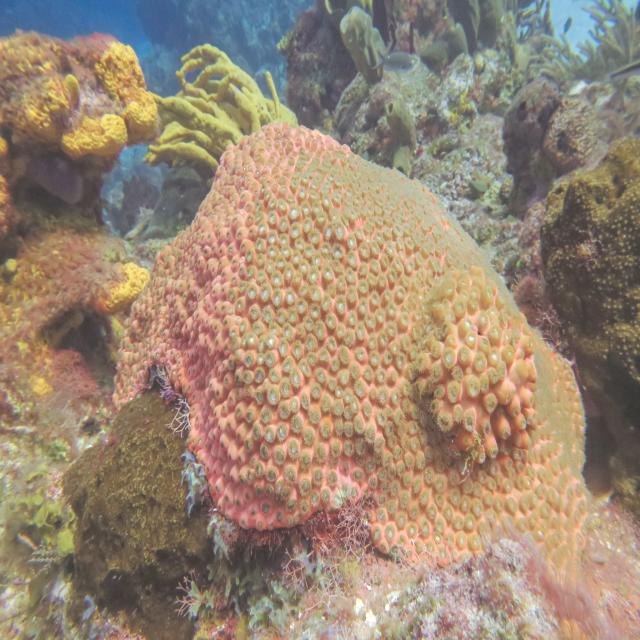Coral: (114, 124, 590, 564), (142, 41, 298, 183)
